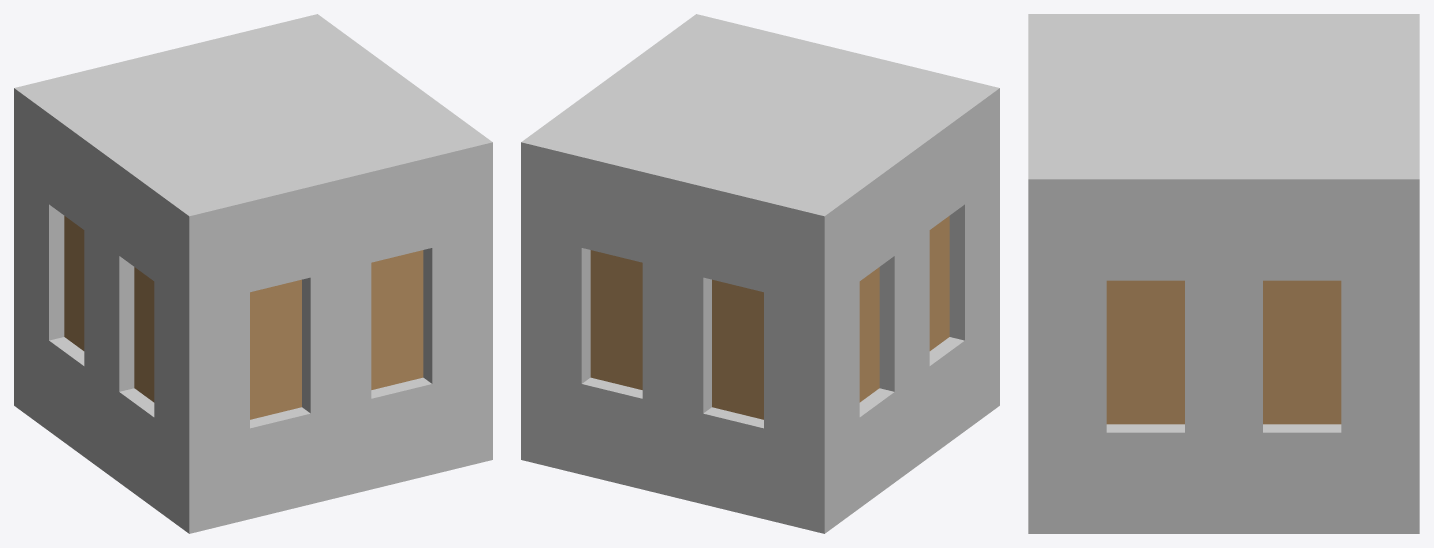
The picture shows the model from 3 angles, left to right: view 1: azimuth 30°, elevation 25°; view 2: azimuth 150°, elevation 25°; view 3: azimuth 270°, elevation 25°; orthographic projection. The views are drawn at different scales.
Parts seen in each view (by area): view 1: Cube.016; view 2: Cube.016; view 3: Cube.016.
Boxes of the visible parts, bbox=[...] form: Cube.016: bbox=[14, 14, 492, 533]; Cube.016: bbox=[521, 14, 999, 533]; Cube.016: bbox=[1028, 14, 1419, 533].
Size of the model in its own units: 100 by 100 by 100.
